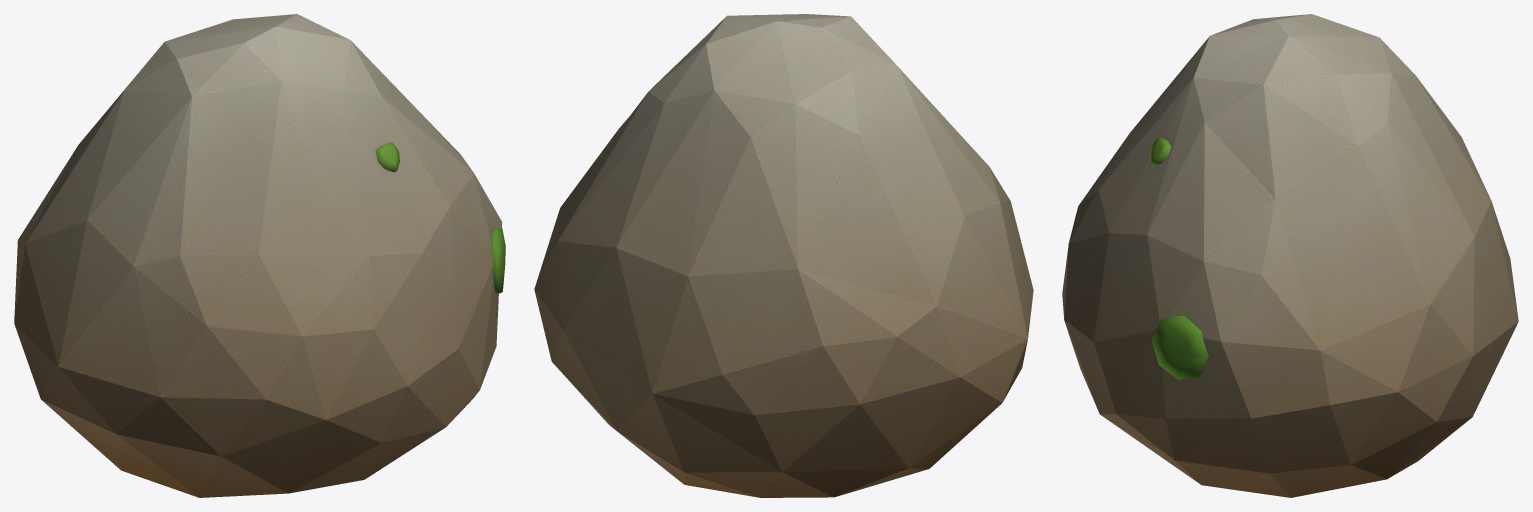
The model's file is rock_1_mid.glb.
3 views of the same model, side by side, from view 1: azimuth 30°, elevation 25°; view 2: azimuth 150°, elevation 25°; view 3: azimuth 270°, elevation 25° (orthographic). The views are drawn at different scales.
Visible parts, largest first — view 1: rock_1; view 2: rock_1; view 3: rock_1.
Part boxes in pixels (x1,y1,x2,y2): rock_1: [14, 14, 505, 497]; rock_1: [534, 14, 1033, 497]; rock_1: [1062, 14, 1518, 497].
Size of the model in its own units: 0.6228 by 0.5869 by 0.5708.
1 material, 1 textured.
